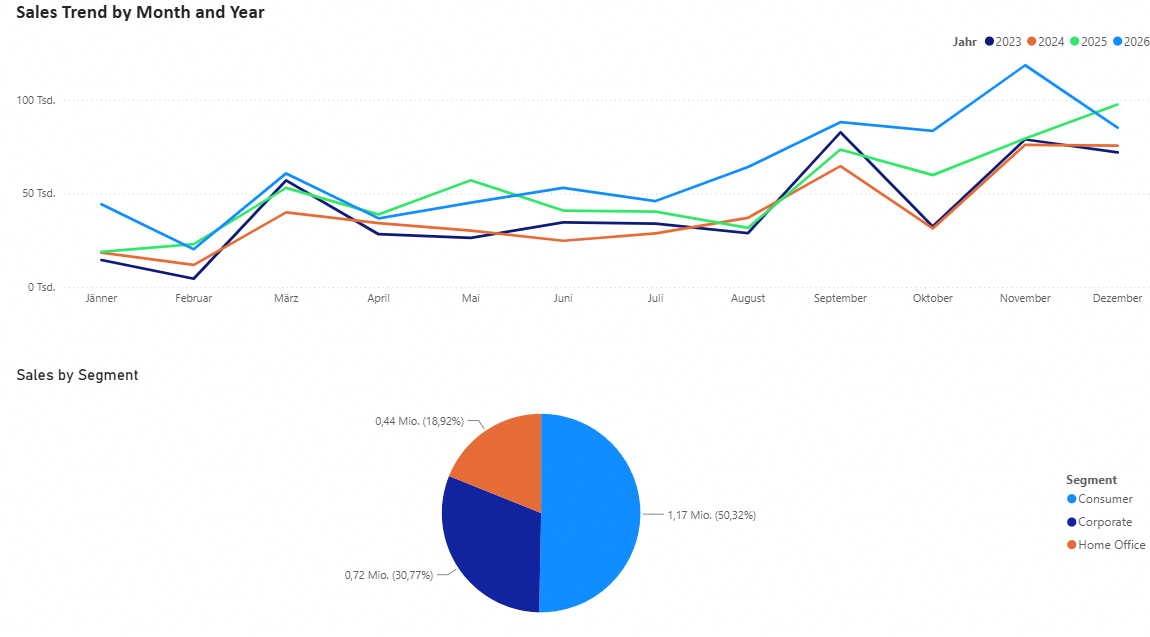

What the dashboard file says about the page in this screenshot:
{"tool":"powerbi","page":{"name":"Seite 2","canvas":[1280,720],"ordinal":1},"visuals":[{"type":"lineChart","title":"Sales Trend by Month and Year","fields":{"Y":["Orders.Total Sales"],"Category":["Orders.Order Date.Variation.Datumshierarchie.Monat"],"Series":["Orders.Jahr"]},"box":[20.6,13.7,1259.7,345.8],"z":0},{"type":"pieChart","title":"Sales by Segment","fields":{"Category":["Orders.Segment"],"Y":["Orders.Total Sales"]},"box":[20.6,415.8,1259.7,304.6],"z":1000}]}

Visuals, with their boxes in screenshot pixels (x1, y1, x2, y2), scaled from the page's 1280x720 canvas onto the 1150x637 screenshot:
"Sales Trend by Month and Year" lineChart: (19,12,1149,318)
"Sales by Segment" pieChart: (19,368,1149,636)
